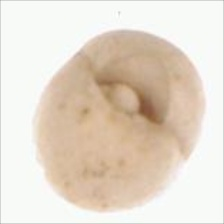L3: (92, 64, 164, 122)
L4: (33, 29, 204, 212)
